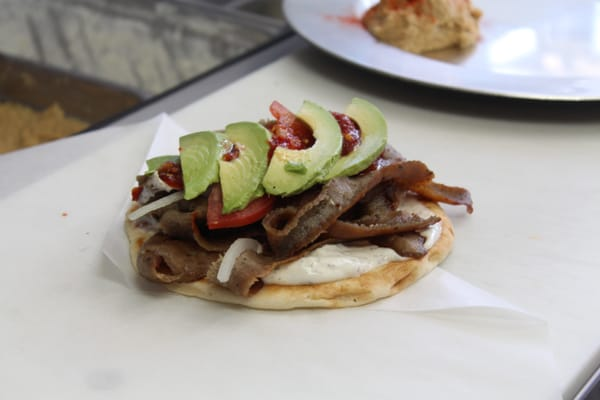soup: (119, 96, 474, 310)
